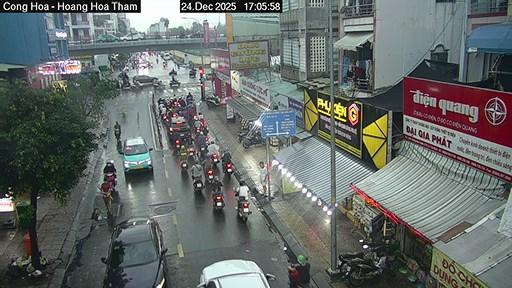motorbike: (348, 256, 384, 286), (336, 252, 364, 275), (100, 181, 112, 216), (358, 239, 387, 252), (242, 133, 265, 147), (237, 199, 250, 220), (103, 171, 115, 189), (211, 192, 224, 208), (205, 94, 220, 107), (224, 161, 233, 179), (192, 176, 202, 192), (236, 130, 249, 142), (204, 171, 213, 184), (179, 160, 188, 171), (210, 153, 217, 166), (173, 139, 179, 153), (153, 81, 163, 89), (198, 144, 204, 157), (115, 139, 121, 152), (188, 144, 194, 156), (169, 79, 179, 86), (115, 127, 120, 139), (185, 95, 192, 103), (169, 68, 176, 75), (188, 70, 195, 76)
